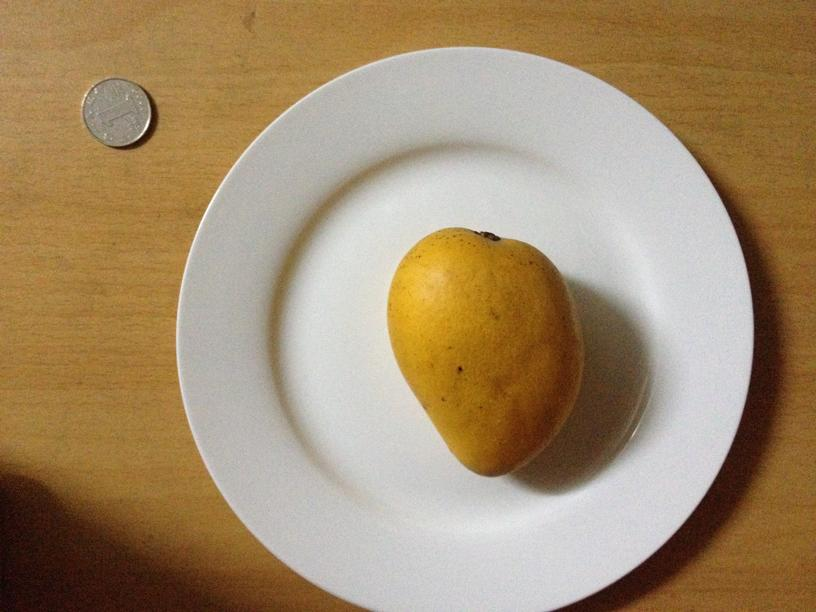coin: (80, 75, 150, 148)
mango: (391, 223, 586, 475)
